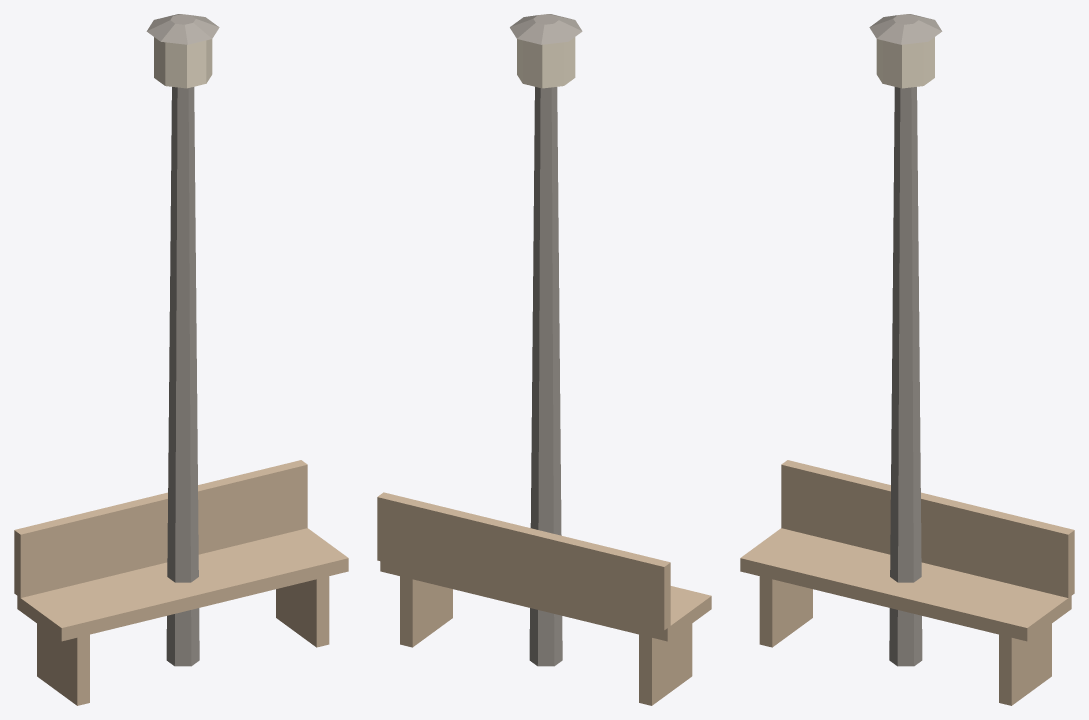
The model's file is island_protos.glb.
3 renders of one model, left to right at view 1: azimuth 30°, elevation 25°; view 2: azimuth 150°, elevation 25°; view 3: azimuth 330°, elevation 25°, orthographic.
Parts seen in each view (by area): view 1: bench, court_lamp; view 2: bench, court_lamp; view 3: bench, court_lamp.
Boxes of the visible parts, x1,y1,x2,y2 form: bench: [14, 460, 348, 705]; court_lamp: [146, 14, 219, 666]; bench: [377, 492, 711, 705]; court_lamp: [510, 14, 582, 666]; bench: [740, 460, 1074, 705]; court_lamp: [869, 14, 942, 666].
Bounding box in the file's own units: 1.8 × 3.84 × 0.515.
